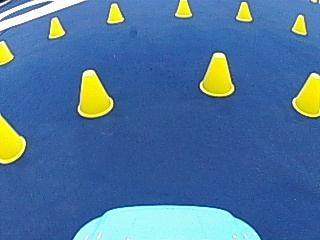cone: (76, 67, 113, 117), (199, 50, 234, 96), (291, 72, 319, 116), (0, 114, 25, 160), (106, 2, 124, 24), (47, 16, 65, 38), (290, 13, 307, 35), (235, 1, 252, 21), (0, 40, 14, 64), (174, 0, 192, 18)
